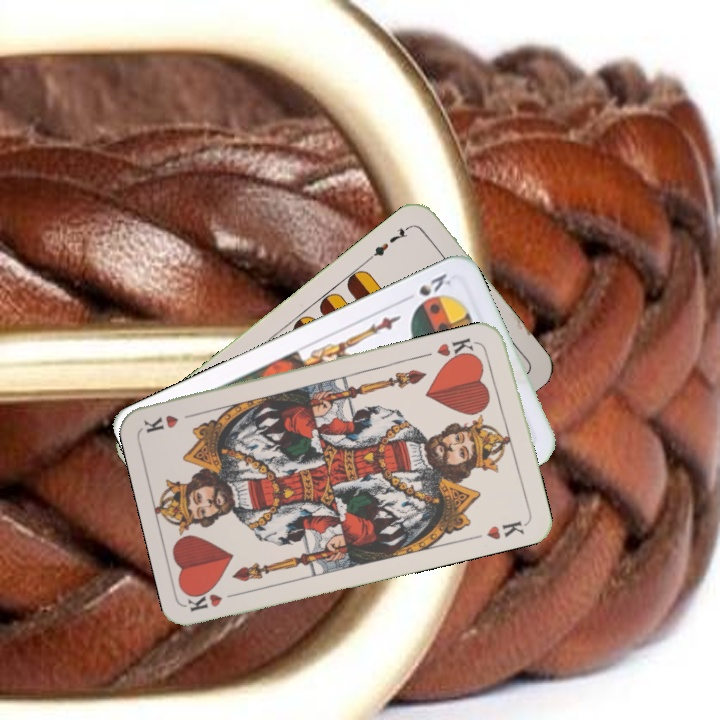E7: (364, 221, 414, 264)
HK: (184, 585, 245, 615), (433, 334, 483, 365)
SK: (412, 269, 454, 309)
